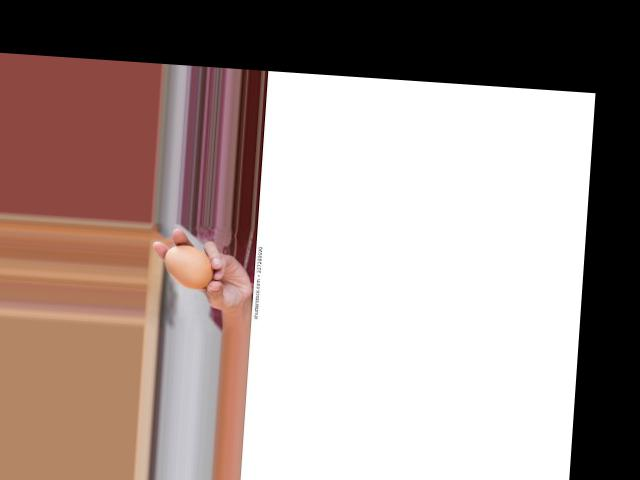egg: (163, 242, 214, 289)
